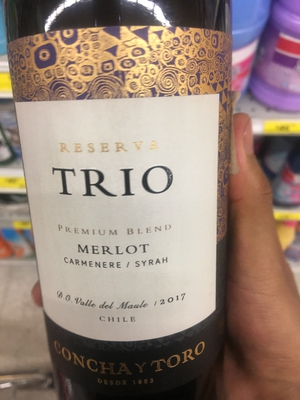trio merlot: (7, 7, 247, 378)
